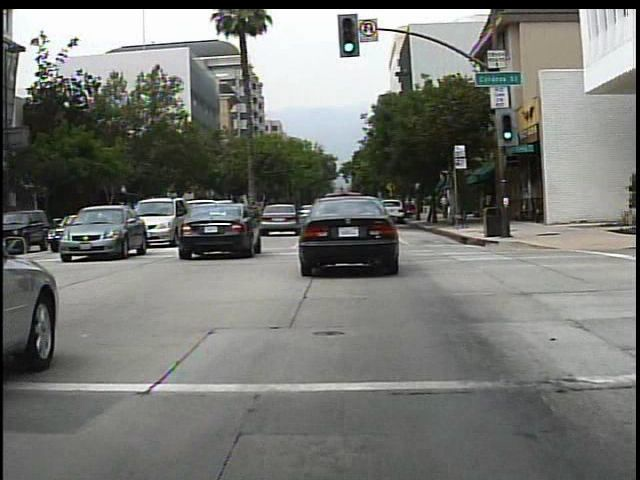person: (436, 191, 455, 224)
